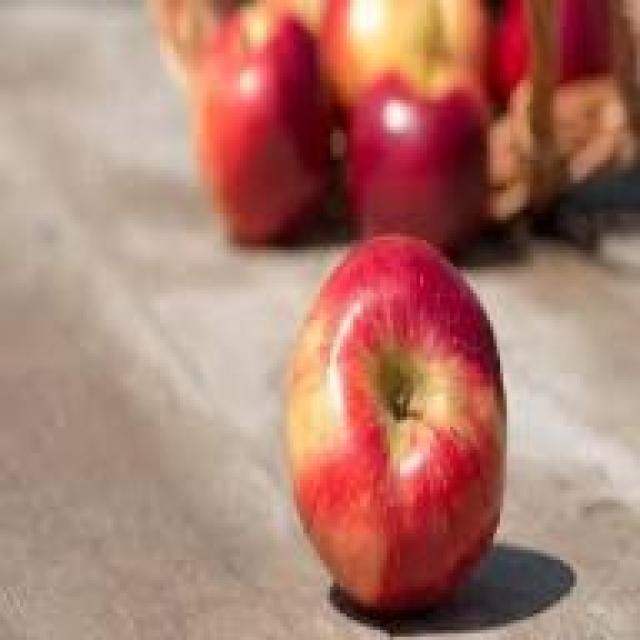apple: (284, 237, 514, 613)
